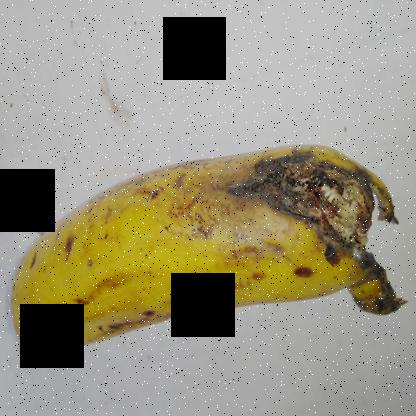ripe: (5, 150, 224, 356)
rotten: (191, 113, 402, 332)
